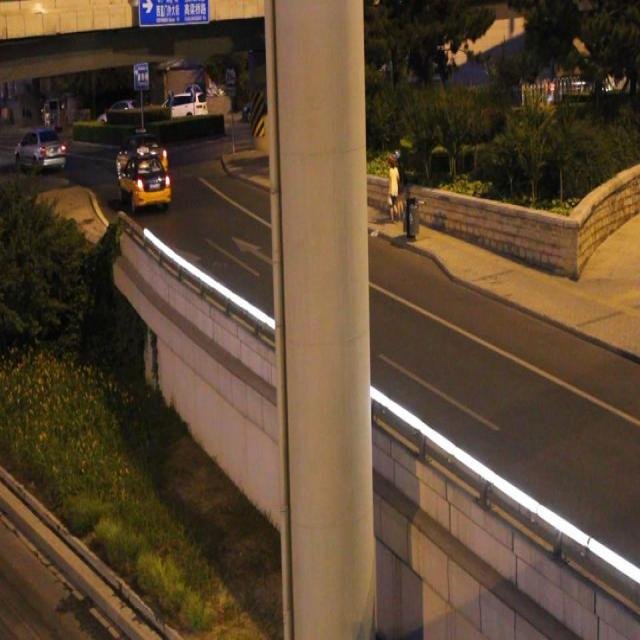car: (117, 146, 171, 212)
